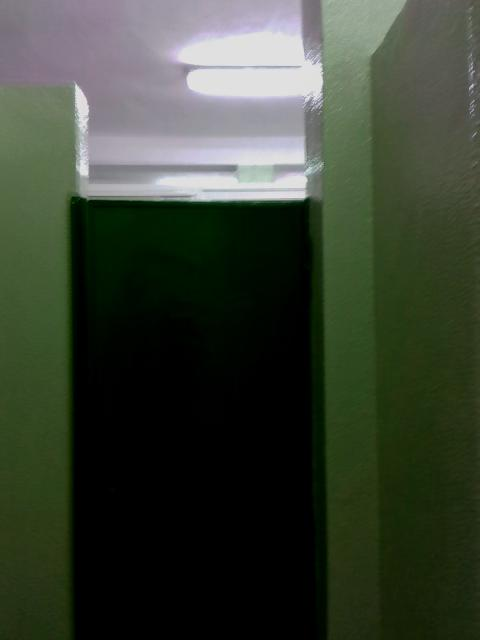closed_door: (71, 199, 323, 639)
